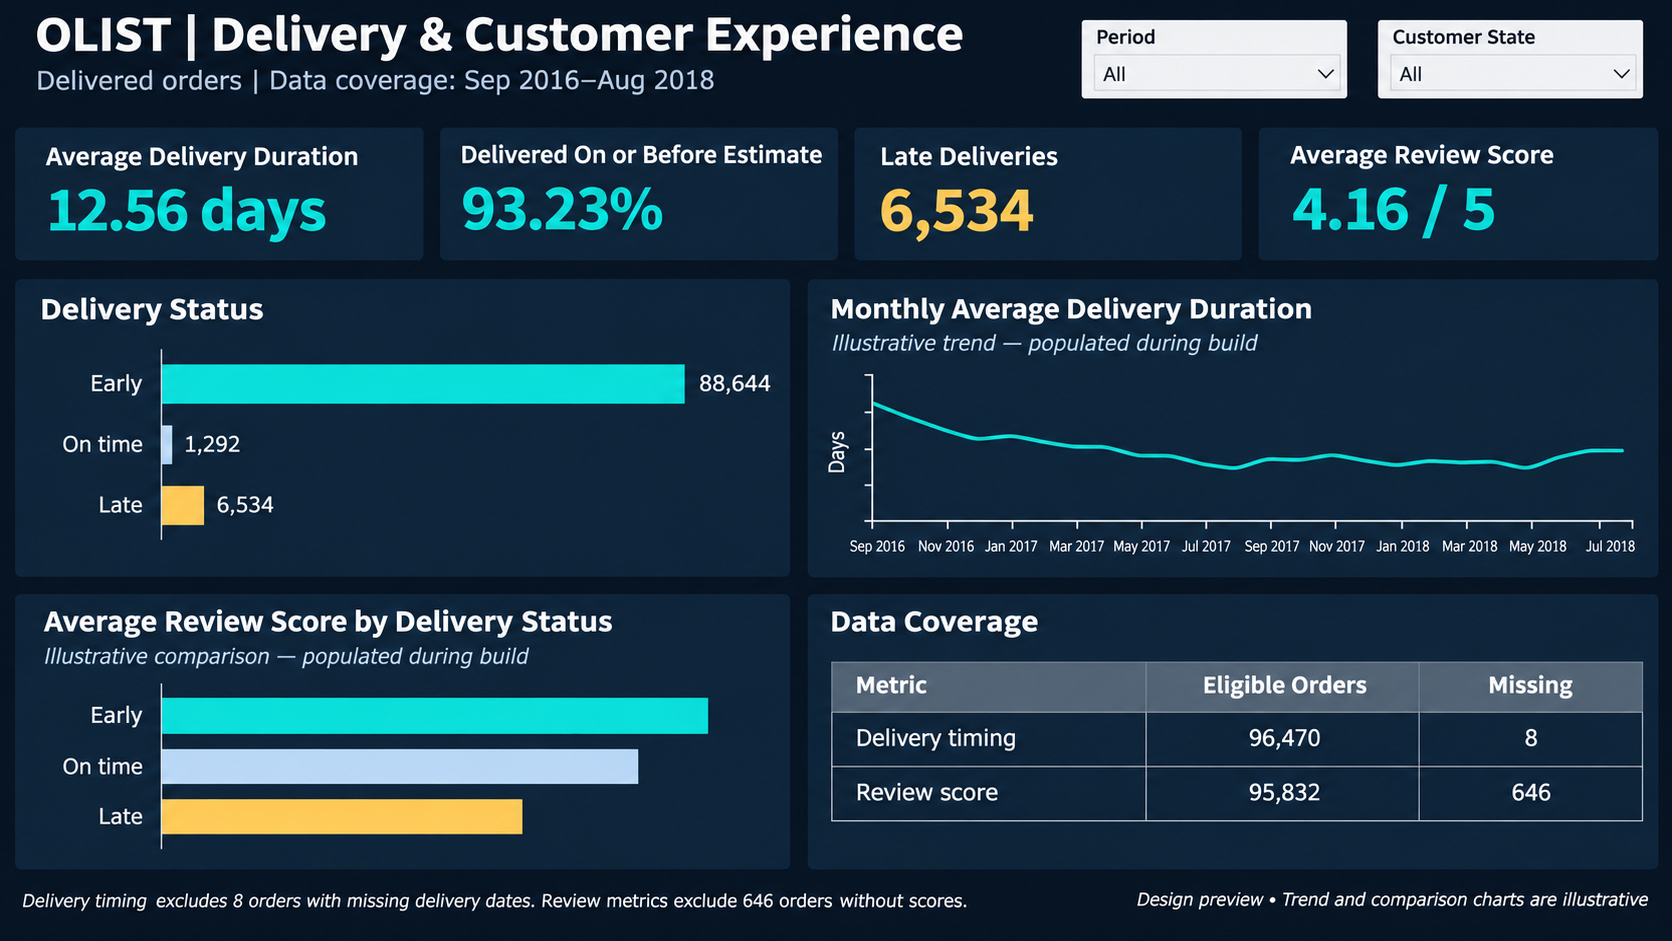

This screenshot's page, from the dashboard's own definition file:
{"tool":"powerbi","page":{"name":"Delivery & Customer Experience","canvas":[1920,1080],"ordinal":3},"visuals":[{"type":"textbox","box":[40,16,1400,80],"z":0},{"type":"textbox","box":[40,88,1400,32],"z":1000},{"type":"cardVisual","title":"Average Delivery Duration (Days)","fields":{"Data":["fact_orders.Average Delivery Duration (Days)"]},"box":[40,144,445,160],"z":2000},{"type":"cardVisual","title":"Delivered On or Before Estimate (%)","fields":{"Data":["fact_orders.Delivered On or Before Estimate %"]},"box":[505,144,445,160],"z":3000},{"type":"cardVisual","title":"Late Deliveries","fields":{"Data":["fact_orders.Late Deliveries"]},"box":[970,144,445,160],"z":4000},{"type":"cardVisual","title":"Average Review Score (out of 5)","fields":{"Data":["fact_orders.Average Review Score"]},"box":[1435,144,445,160],"z":5000},{"type":"slicer","title":"Period","fields":{"Values":["dim_date.year_month"]},"box":[1460,24,180,88],"z":6000},{"type":"clusteredBarChart","title":"Orders by Delivery Status","fields":{"Category":["fact_orders.delivery_status"],"Y":["fact_orders.Delivered Orders"]},"box":[40,328,910,340],"z":8000},{"type":"lineChart","title":"Average Delivery Duration by Purchase Month.","fields":{"Category":["dim_date.year_month"],"Y":["fact_orders.Average Delivery Duration (Days)"]},"box":[970,328,910,340],"z":8001},{"type":"clusteredBarChart","title":"Average Review Score by Delivery Status","fields":{"Category":["fact_orders.delivery_status"],"Y":["fact_orders.Average Review Score"]},"box":[40.5,688,910,340],"z":8002},{"type":"tableEx","title":"Data Coverage","fields":{"Values":["Experience Coverage Groups.Metric","fact_orders.Experience Eligible Orders","fact_orders.Experience Missing Orders"]},"box":[970,688,910,240],"z":8003},{"type":"textbox","box":[970,948,910,80],"z":8004},{"type":"slicer","title":"Customer State","fields":{"Values":["dim_customer_state.customer_state"]},"box":[1670,34,220,88],"z":8005}]}

Visuals, with their boxes in screenshot pixels (x1, y1, x2, y2), scaled from the page's 1920x1080 canvas onto the 1672x941 screenshot:
textbox: [35, 14, 1254, 84]
textbox: [35, 77, 1254, 105]
"Average Delivery Duration (Days)" cardVisual: [35, 125, 422, 265]
"Delivered On or Before Estimate (%)" cardVisual: [440, 125, 827, 265]
"Late Deliveries" cardVisual: [845, 125, 1232, 265]
"Average Review Score (out of 5)" cardVisual: [1250, 125, 1637, 265]
"Period" slicer: [1271, 21, 1428, 98]
"Orders by Delivery Status" clusteredBarChart: [35, 286, 827, 582]
"Average Delivery Duration by Purchase Month." lineChart: [845, 286, 1637, 582]
"Average Review Score by Delivery Status" clusteredBarChart: [35, 599, 828, 896]
"Data Coverage" tableEx: [845, 599, 1637, 809]
textbox: [845, 826, 1637, 896]
"Customer State" slicer: [1454, 30, 1646, 106]
